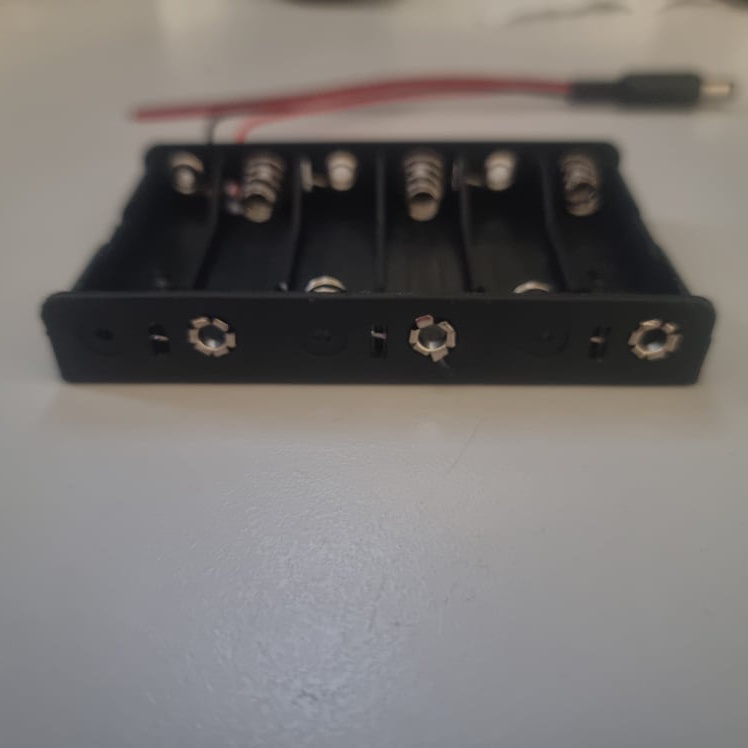BATTERY BOX: (40, 130, 710, 390)
